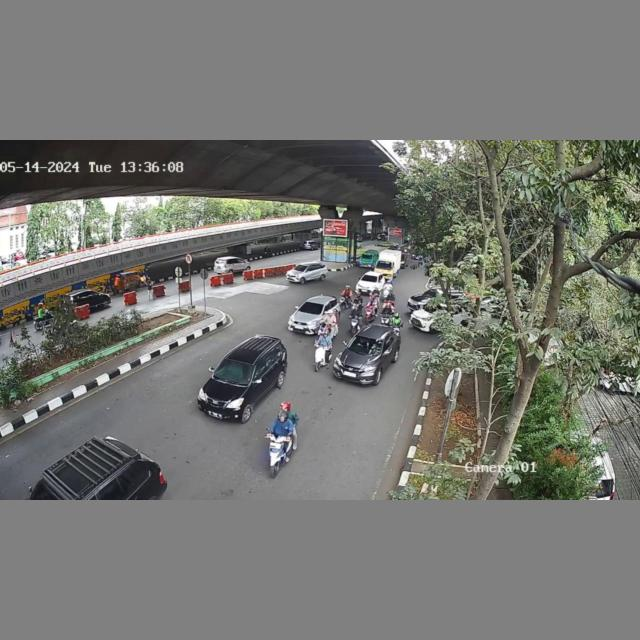windshield: (214, 359, 255, 384), (348, 334, 383, 356), (297, 299, 325, 317)
